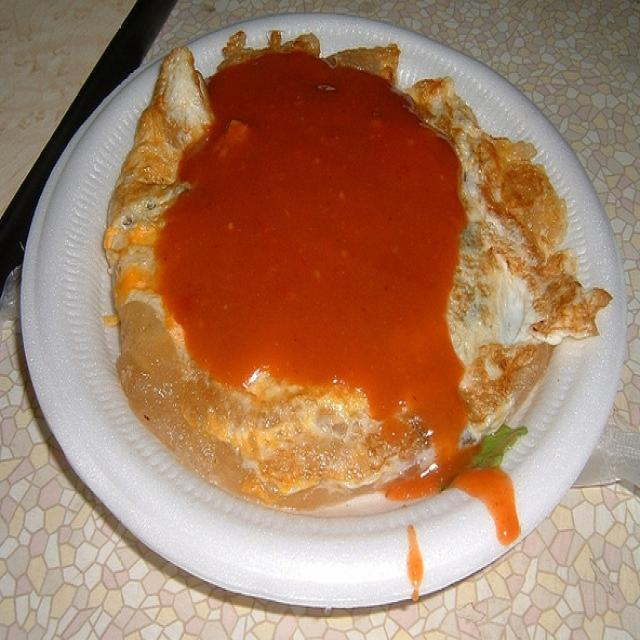熟制海鲜: (13, 12, 619, 620)
